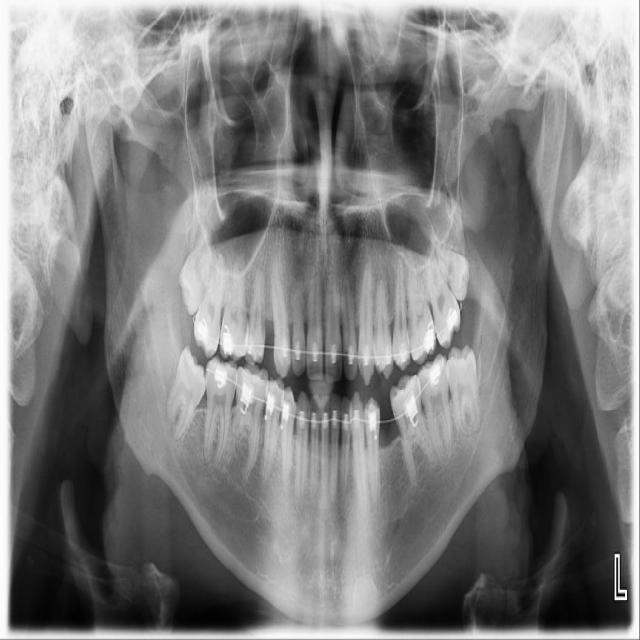impacted tooth: (168, 346, 205, 441), (180, 219, 214, 313), (444, 349, 480, 433), (436, 232, 469, 299)
